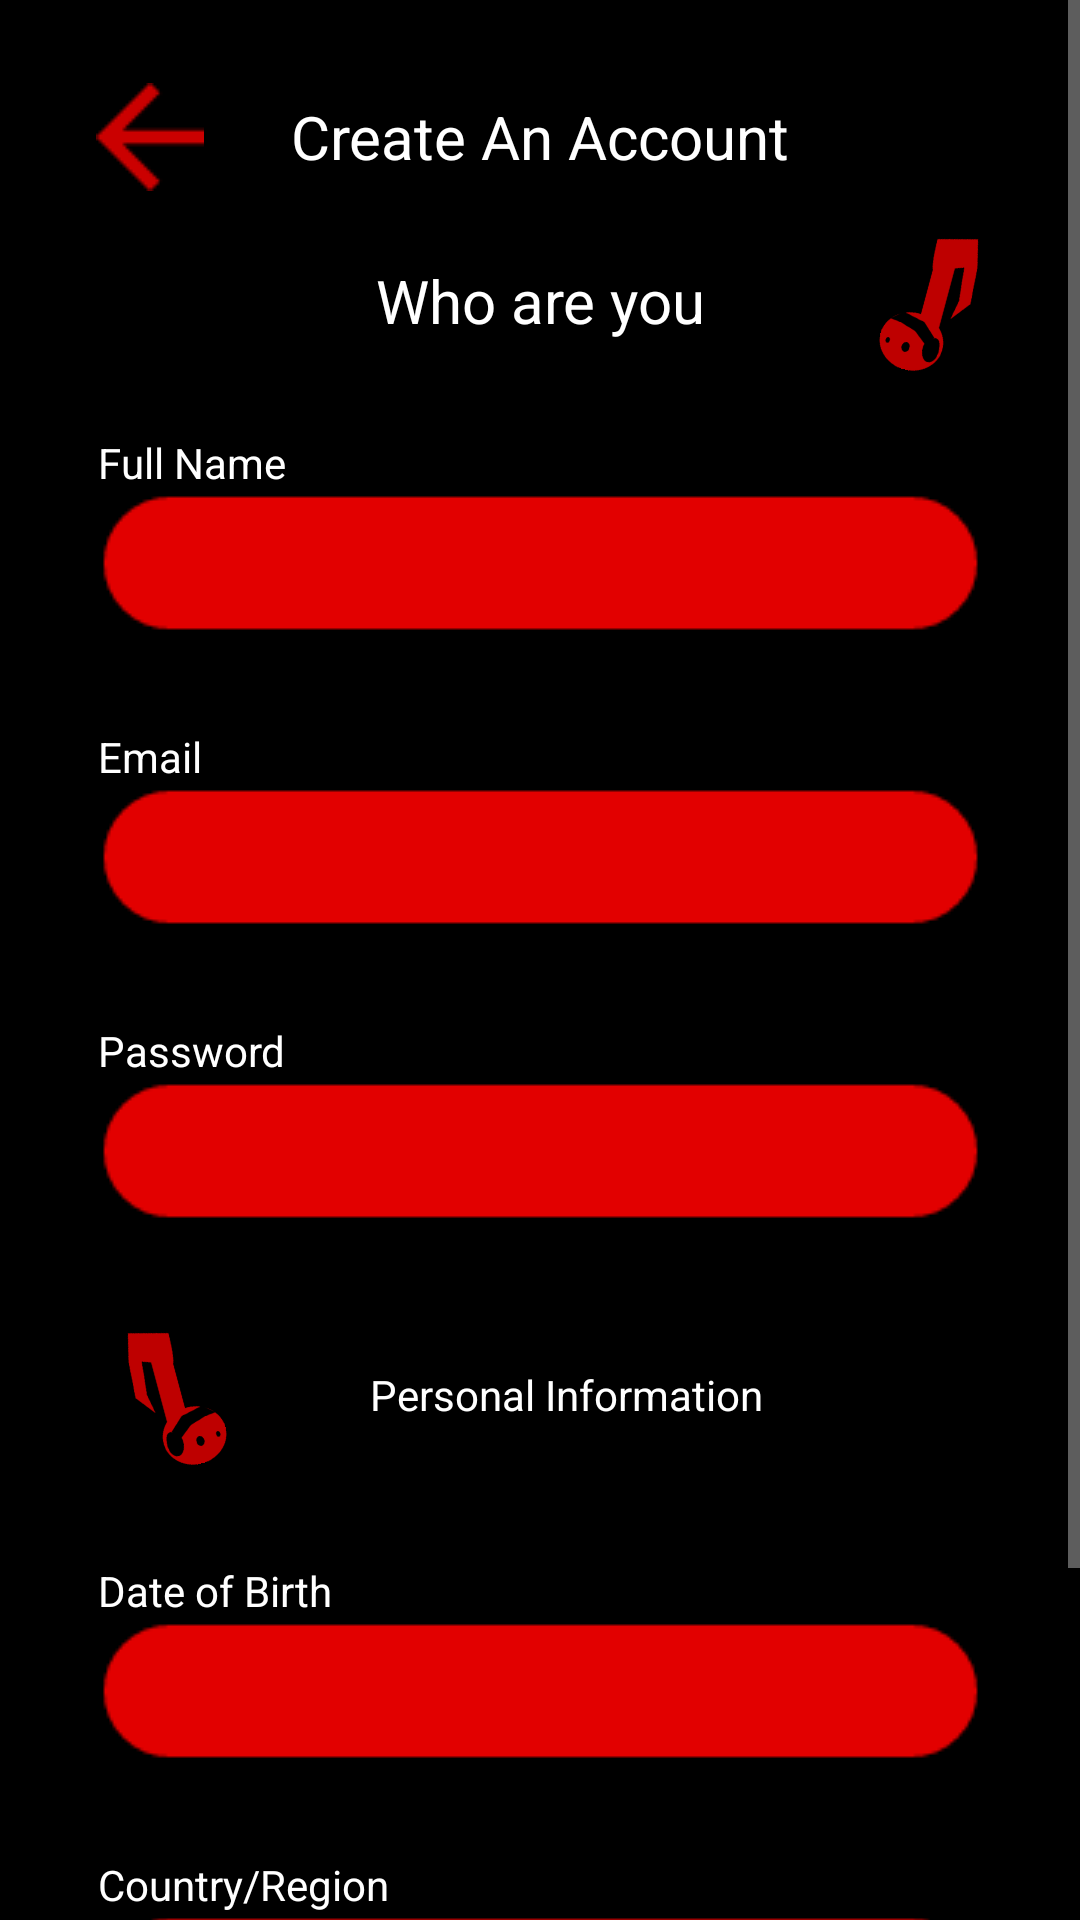

Named icons in this screenshot (1080w x 1920h) and their centers, point (x, y):
backward arrow: point (150, 137)
